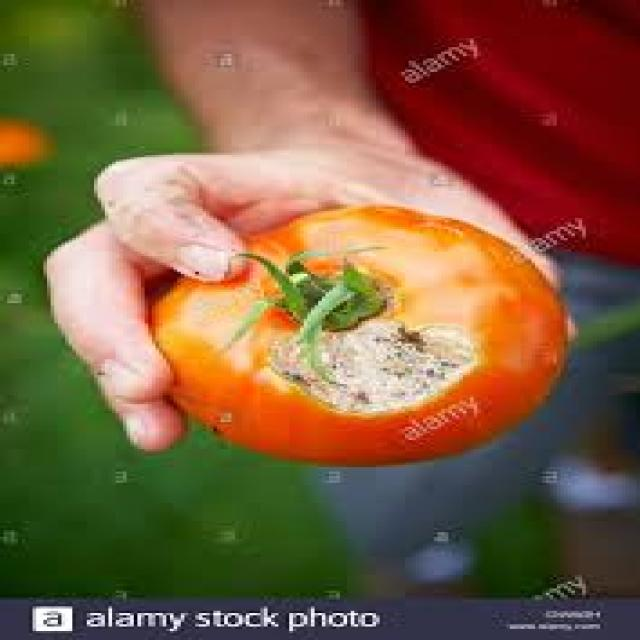Wet Waste: (143, 208, 600, 475)
